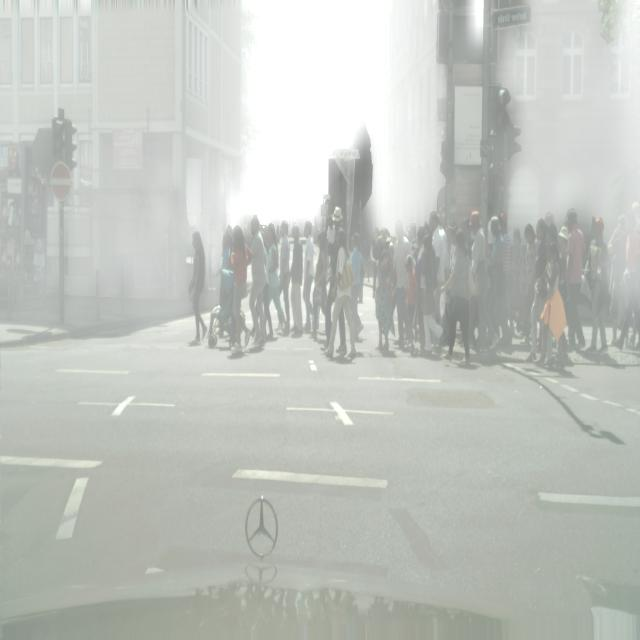bus: (528, 213, 559, 366), (322, 228, 357, 362), (589, 201, 618, 358), (441, 228, 472, 366), (565, 209, 587, 349), (247, 218, 270, 349), (228, 226, 251, 357), (620, 197, 639, 355), (476, 219, 495, 363), (391, 219, 411, 351), (501, 223, 520, 357), (266, 224, 288, 338), (375, 244, 396, 354), (188, 231, 207, 344), (289, 224, 304, 338)
